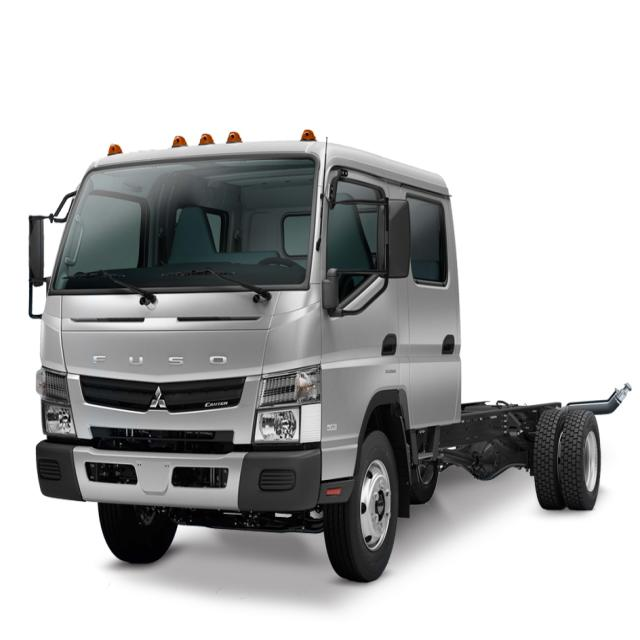truck: (22, 131, 638, 578)
